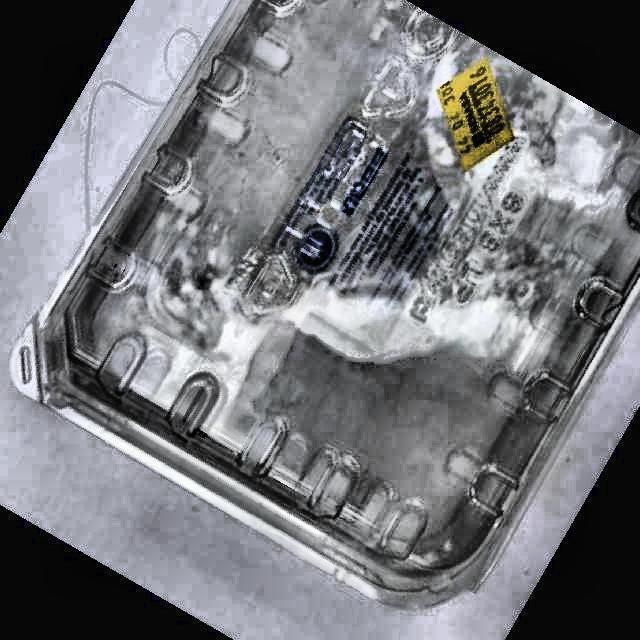plastic: (11, 0, 640, 606)
